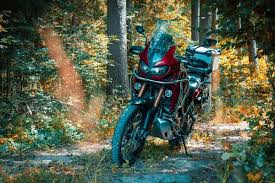motorcycle: (108, 21, 219, 171)
